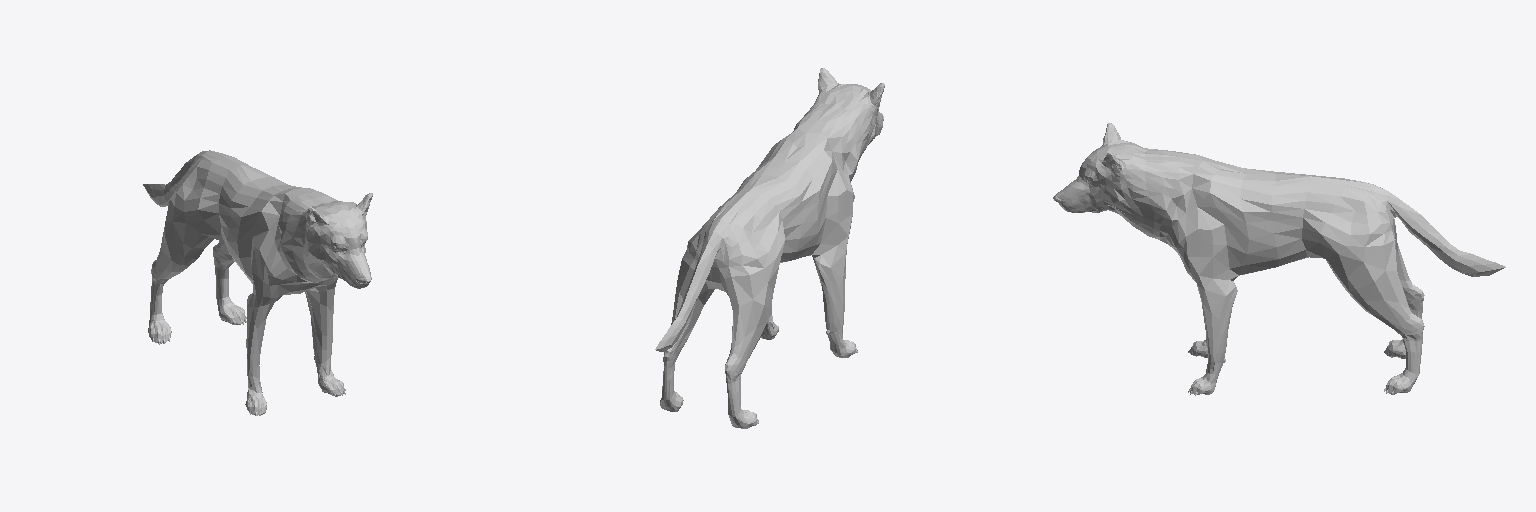
Rendered from WOLF.OBJ.
3 renders of one model, left to right at view 1: azimuth 30°, elevation 25°; view 2: azimuth 150°, elevation 25°; view 3: azimuth 270°, elevation 25°, orthographic.
Parts seen in each view (by area): view 1: wolf_body; view 2: wolf_body; view 3: wolf_body.
Boxes of the visible parts, x1,y1,x2,y2 form: wolf_body: [143, 150, 372, 415]; wolf_body: [655, 68, 884, 428]; wolf_body: [1053, 123, 1505, 395].
Bounding box in the file's own units: 0.4001 × 0.9431 × 1.64.